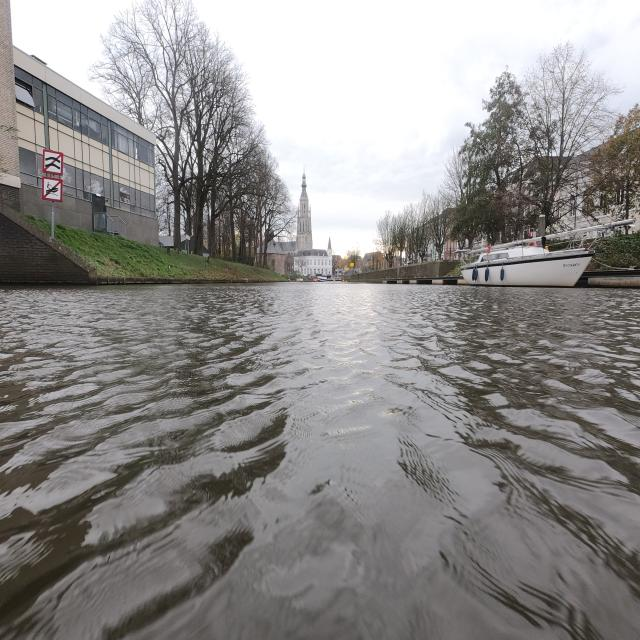boat: (476, 248, 590, 286)
dock: (107, 0, 202, 252), (575, 269, 640, 288), (97, 276, 234, 285), (382, 277, 465, 285), (235, 278, 258, 283)
grass: (56, 225, 280, 281)
sky: (194, 6, 626, 252), (10, 0, 128, 82)
tree: (376, 43, 640, 259), (94, 0, 288, 255), (94, 0, 202, 252)
wall: (2, 206, 90, 286)
water: (10, 288, 638, 632)
